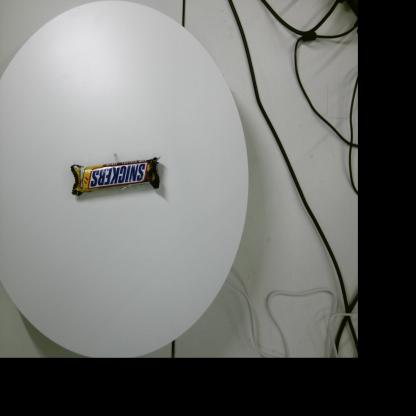Chocolate: (70, 156, 160, 196)
